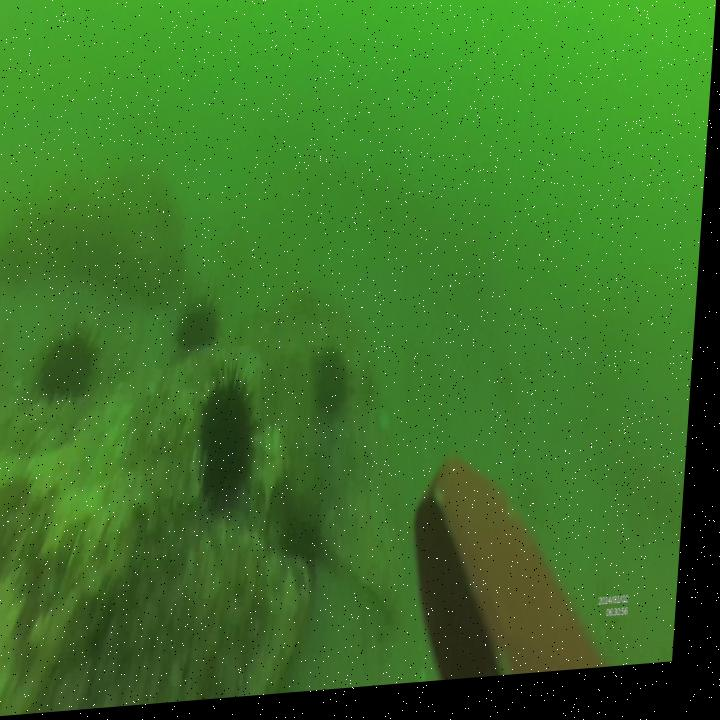echinus: (201, 362, 268, 523), (42, 322, 105, 403), (320, 348, 358, 426), (182, 299, 225, 355)
